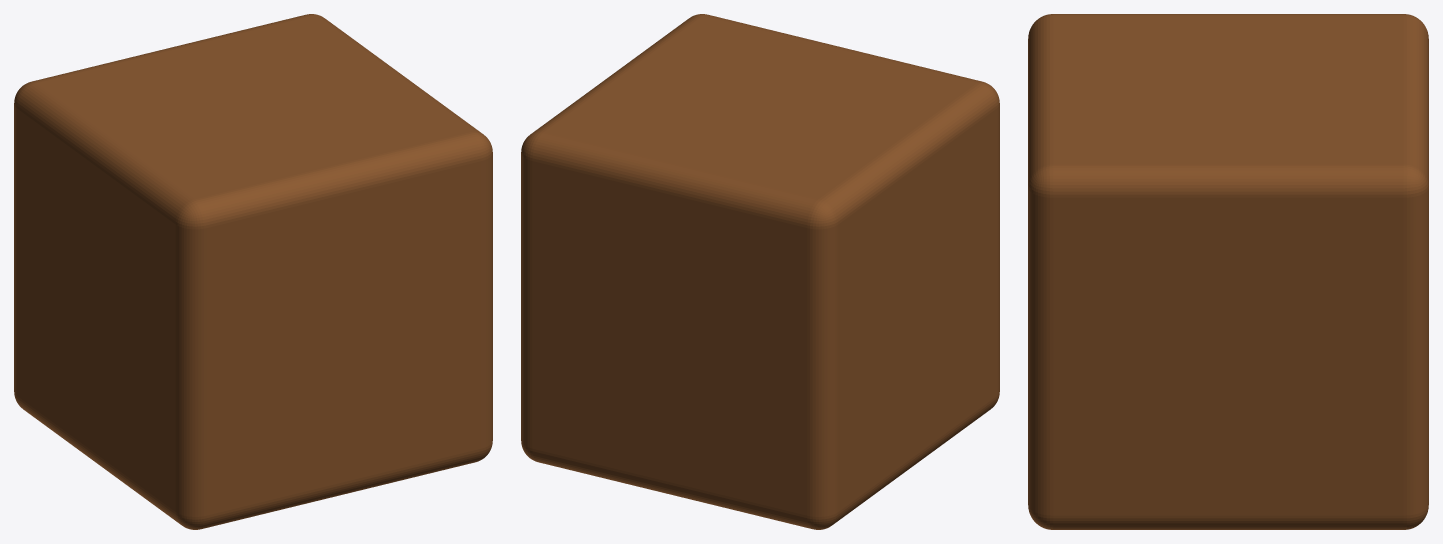
File: WoodenCube.fbx
The picture shows the model from 3 angles, left to right: view 1: azimuth 30°, elevation 25°; view 2: azimuth 150°, elevation 25°; view 3: azimuth 270°, elevation 25°; orthographic projection. The views are drawn at different scales.
Visible parts, largest first — view 1: Cube; view 2: Cube; view 3: Cube.
Boxes of the visible parts, <box> form: Cube: <box>14,14,492,529</box>; Cube: <box>521,14,999,529</box>; Cube: <box>1028,14,1428,529</box>.
Bounding box in the file's own units: 200 × 200 × 200.
